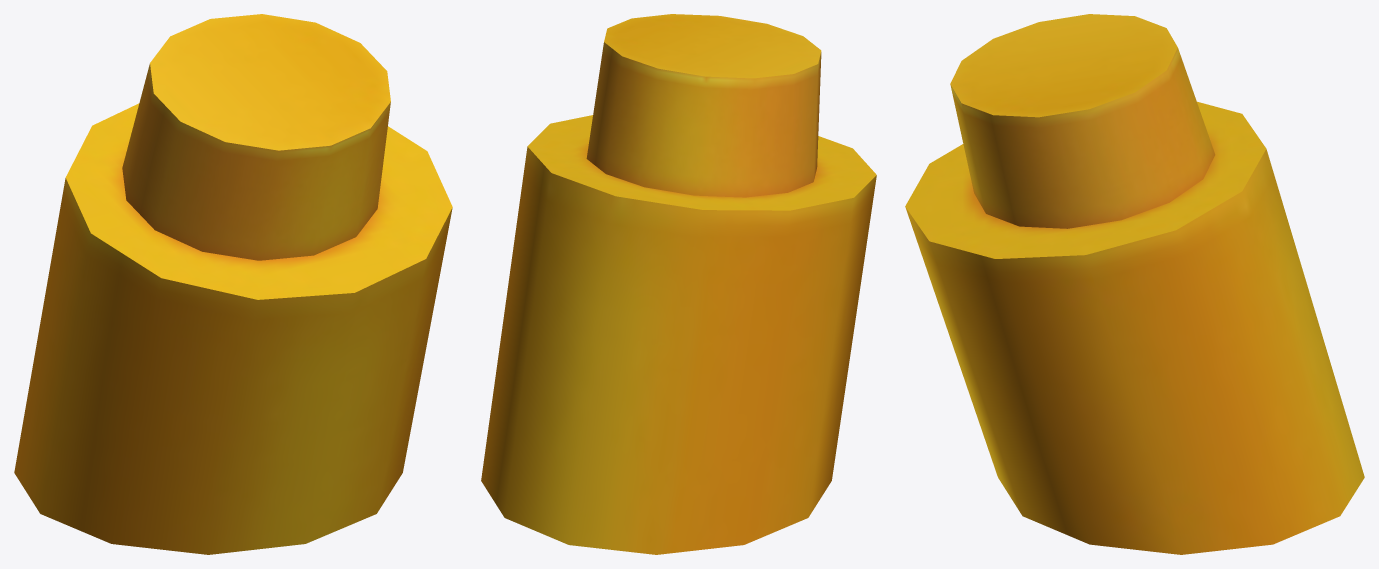
The model's file is zhishengji06.FBX.
3 views of the same model, side by side, from view 1: azimuth 30°, elevation 25°; view 2: azimuth 150°, elevation 25°; view 3: azimuth 270°, elevation 25° (orthographic). The views are drawn at different scales.
Parts seen in each view (by area): view 1: zhishengji06; view 2: zhishengji06; view 3: zhishengji06.
Part boxes in pixels (<box>): zhishengji06: <box>14,14,452,554</box>; zhishengji06: <box>481,14,876,554</box>; zhishengji06: <box>905,14,1364,554</box>.
Bounding box in the file's own units: 6.61 × 8.55 × 8.28.
